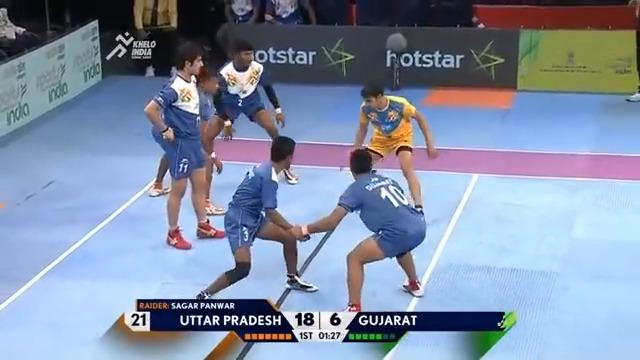Player: (292, 146, 427, 312), (195, 134, 319, 299), (143, 40, 226, 249), (202, 39, 298, 184)
Raider: (350, 81, 438, 216)
referee: (625, 0, 639, 102)
